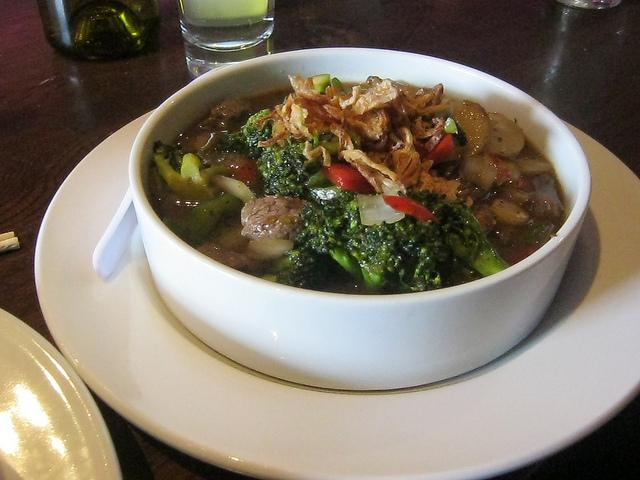broccoli: (348, 216, 453, 292), (296, 191, 363, 284), (434, 203, 511, 277), (236, 247, 356, 294), (152, 140, 232, 201), (257, 138, 324, 202), (183, 192, 245, 244), (216, 109, 272, 159), (306, 184, 349, 207), (312, 74, 332, 96), (444, 118, 458, 134)
mushroom: (452, 100, 490, 156), (522, 174, 565, 223), (486, 112, 524, 158), (471, 204, 496, 231)
onion: (452, 100, 491, 156), (485, 112, 525, 158), (358, 187, 404, 225), (210, 174, 258, 204), (246, 234, 294, 260), (491, 198, 528, 224), (518, 156, 552, 176)
